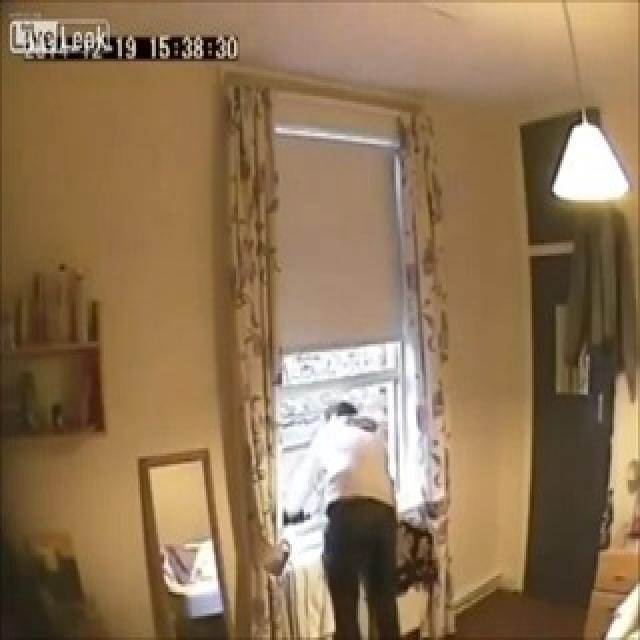thief: (306, 395, 386, 488)
